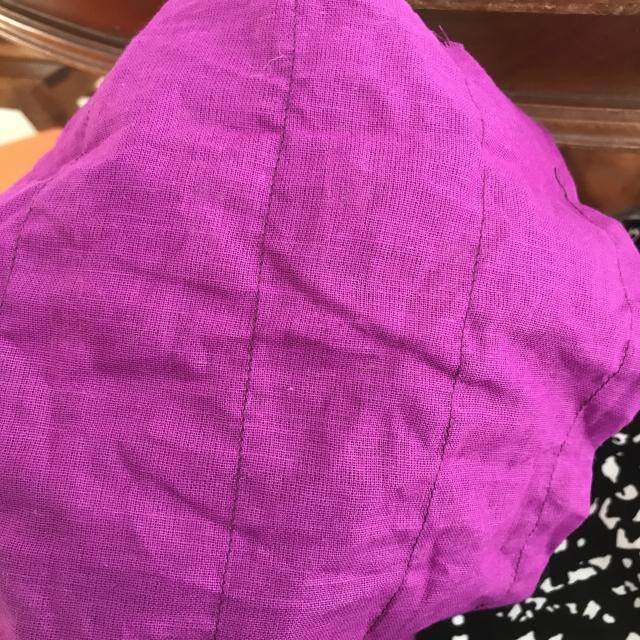good: (246, 164, 286, 274), (218, 452, 259, 544), (232, 351, 276, 433)
